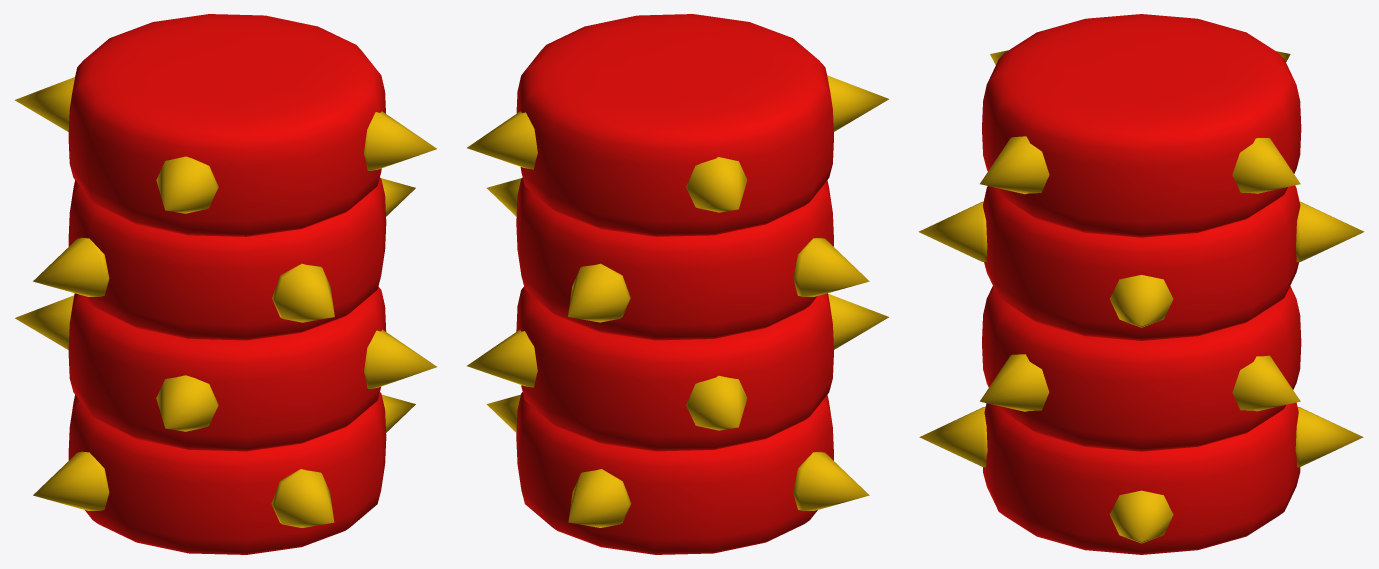
The model's file is Pendulum6.fbx.
The picture shows the model from 3 angles, left to right: view 1: azimuth 30°, elevation 25°; view 2: azimuth 150°, elevation 25°; view 3: azimuth 270°, elevation 25°; orthographic projection.
Visible parts, largest first — view 1: Cone.010; view 2: Cone.010; view 3: Cone.010.
Part boxes in pixels (<box>): Cone.010: <box>15,14,436,554</box>; Cone.010: <box>467,14,888,554</box>; Cone.010: <box>918,14,1364,554</box>.
Bounding box in the file's own units: 298 × 322 × 302.
